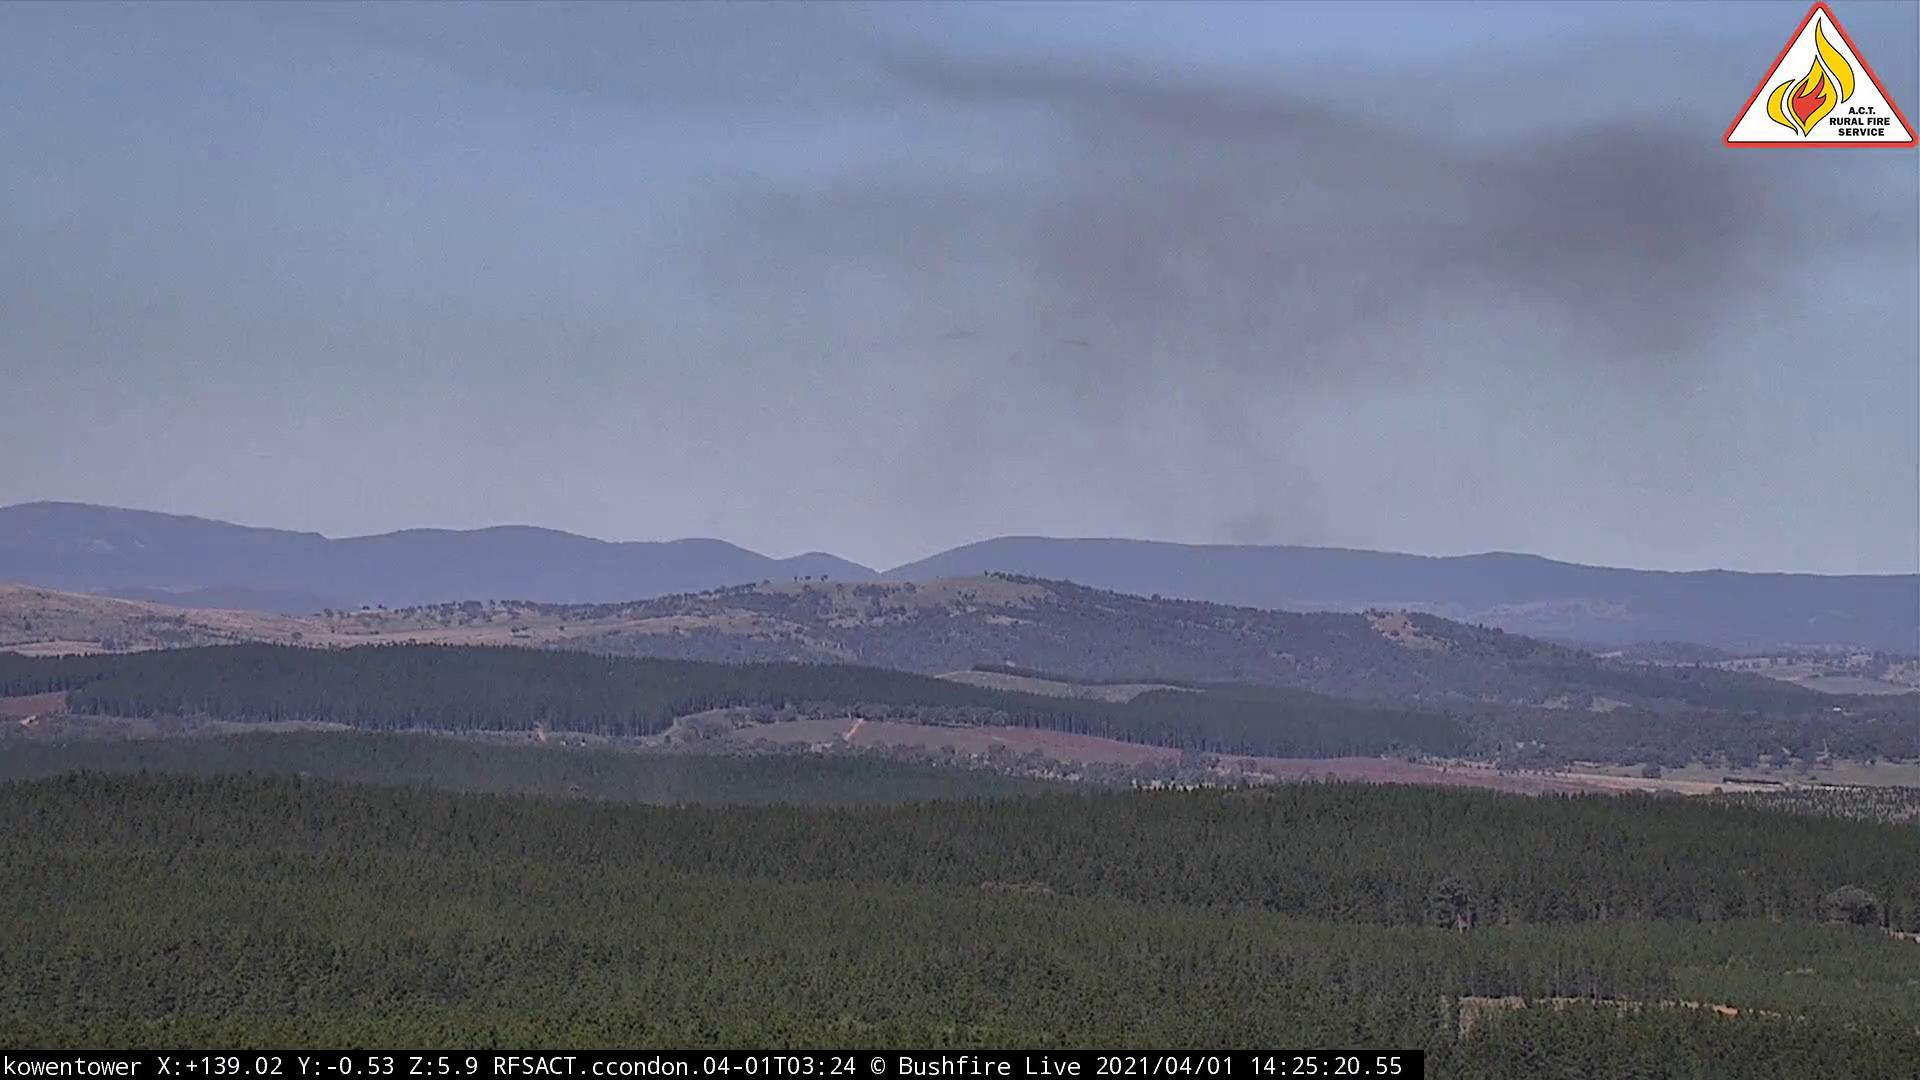Smoke: (655, 44, 1920, 607)
